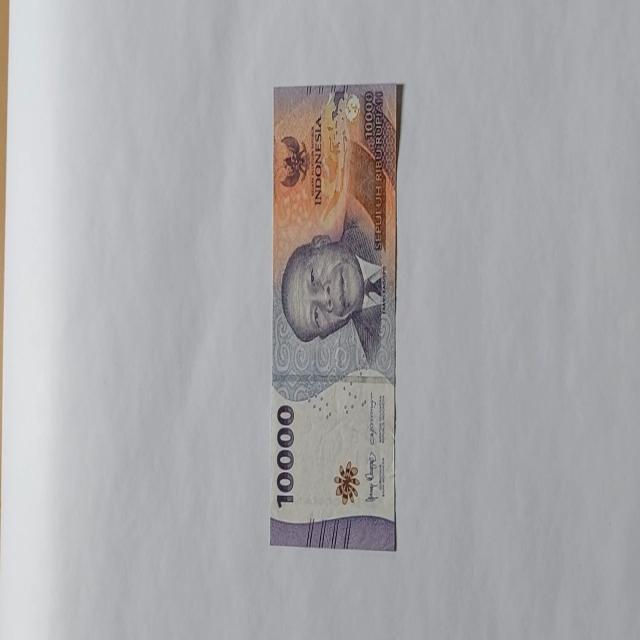sepuluh ribu rupiah: (268, 82, 402, 550), (280, 226, 384, 360)
